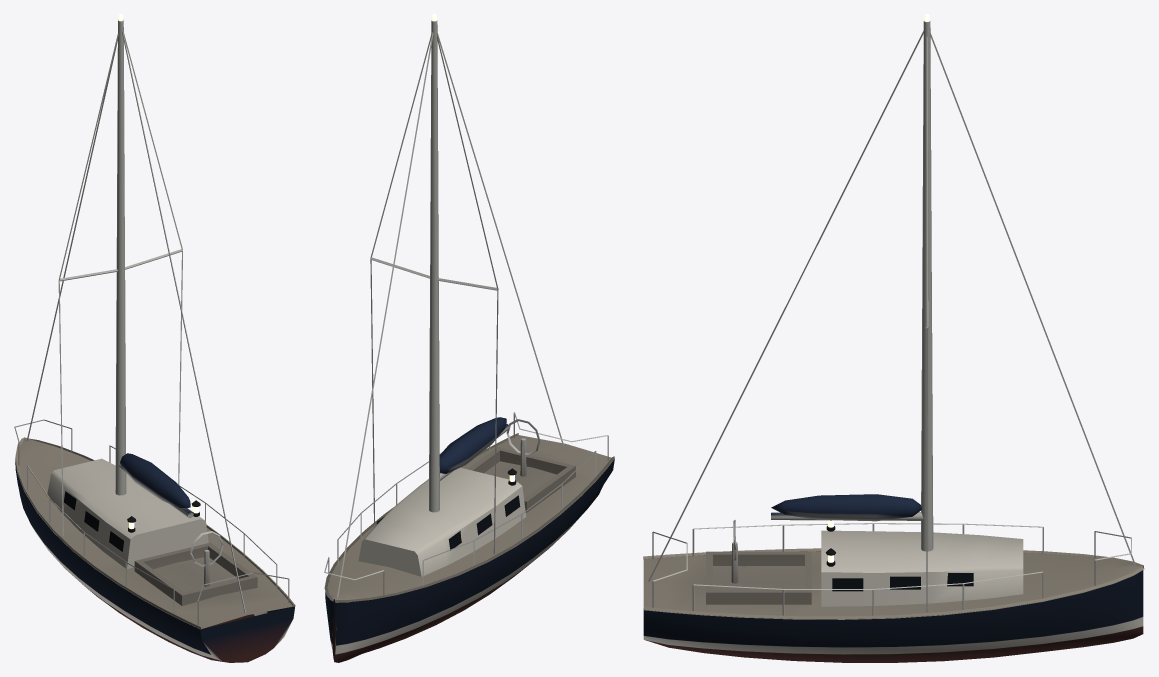
File: barco.glb
The picture shows the model from 3 angles, left to right: view 1: azimuth 30°, elevation 25°; view 2: azimuth 150°, elevation 25°; view 3: azimuth 270°, elevation 25°; orthographic projection. The views are drawn at different scales.
Visible parts, largest first — view 1: barco.001; view 2: barco.001; view 3: barco.001.
Boxes of the visible parts, x1=… form: barco.001: x1=14, y1=20, x2=295, y2=662; barco.001: x1=324, y1=20, x2=614, y2=662; barco.001: x1=643, y1=21, x2=1144, y2=662.
Bounding box in the file's own units: 3.45 × 14.77 × 10.44.
